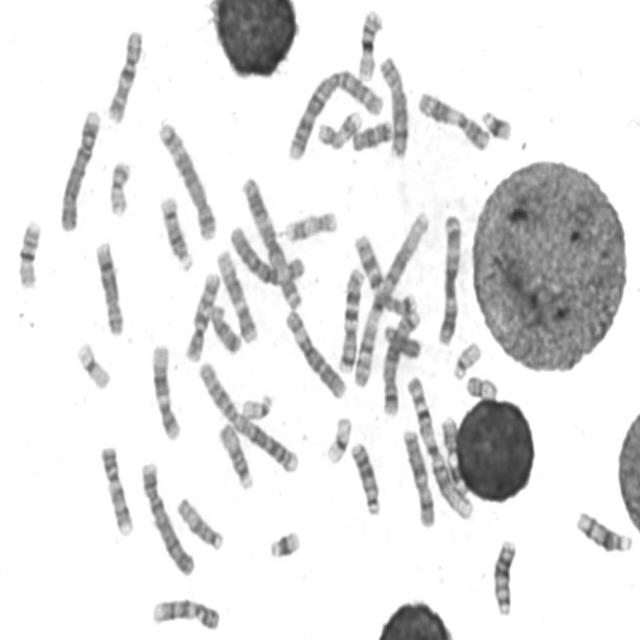A1: (349, 208, 432, 390), (402, 372, 475, 522)
A2: (194, 357, 300, 475), (283, 63, 384, 162)
A3: (237, 171, 304, 311), (433, 208, 464, 346)
B4: (137, 455, 196, 579), (54, 104, 102, 234)
B5: (154, 114, 218, 242), (378, 302, 422, 417)
C10: (103, 23, 146, 125), (181, 266, 222, 363)
C11: (413, 84, 493, 152), (438, 412, 479, 506)
C12: (212, 244, 260, 345), (148, 338, 182, 443)
C6: (281, 303, 348, 400), (226, 218, 307, 290)
C7: (350, 228, 418, 318), (335, 261, 366, 374)
C8: (375, 50, 411, 160), (91, 235, 126, 338)
C9: (96, 440, 135, 539), (148, 593, 222, 632)
D13: (347, 436, 383, 518), (489, 535, 518, 618)
D14: (156, 190, 195, 272), (572, 506, 634, 555)
D15: (173, 491, 225, 552), (215, 418, 255, 493)
E16: (353, 3, 384, 81), (14, 214, 43, 291)
E17: (280, 204, 340, 244), (313, 104, 364, 150)
E18: (206, 298, 243, 355), (348, 114, 394, 153)
F19: (72, 336, 113, 391), (322, 410, 354, 467)
F20: (104, 154, 133, 218), (463, 370, 499, 401)
G21: (265, 524, 302, 561), (478, 104, 514, 142)
G22: (450, 336, 482, 381), (237, 386, 275, 422)
X: (398, 424, 438, 530)
Y: (382, 325, 423, 362)
